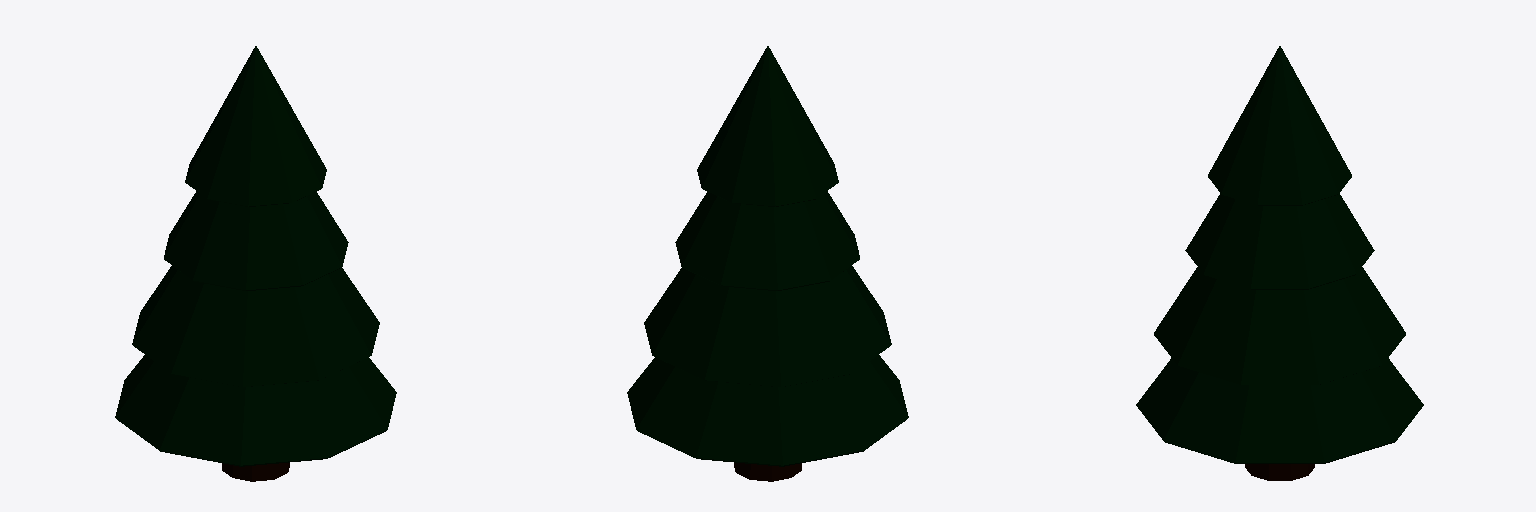
Rendered from pineTreeTall.obj.
The picture shows the model from 3 angles: view 1: azimuth 30°, elevation 25°; view 2: azimuth 150°, elevation 25°; view 3: azimuth 270°, elevation 25°; orthographic projection.
Visible parts, largest first — view 1: ForestTreePineTall_Cylinder.005; view 2: ForestTreePineTall_Cylinder.005; view 3: ForestTreePineTall_Cylinder.005.
Part boxes in pixels (left/top/right/bottom): ForestTreePineTall_Cylinder.005: left=115, top=46, right=396, bottom=481; ForestTreePineTall_Cylinder.005: left=627, top=46, right=908, bottom=481; ForestTreePineTall_Cylinder.005: left=1136, top=46, right=1423, bottom=480.
Size of the model in its own units: 1.77 by 3 by 1.86.